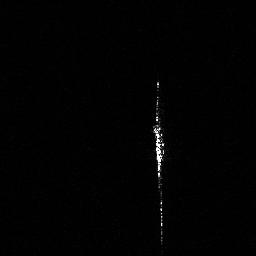ship: (148, 78, 169, 246)
